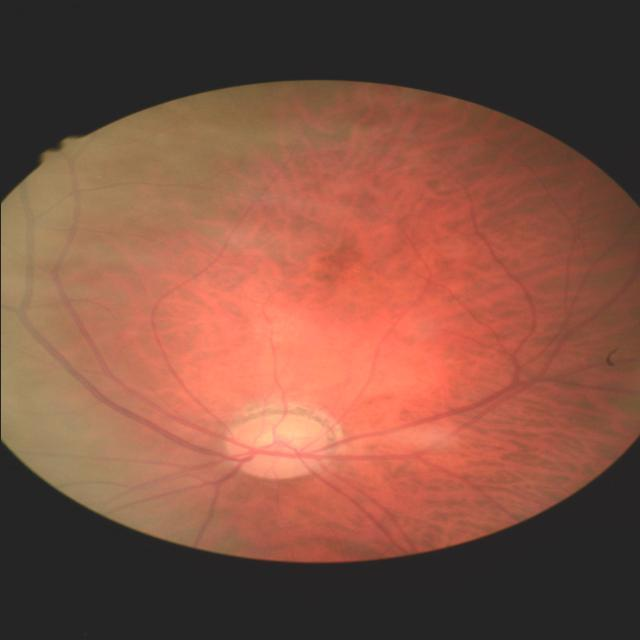cup: (254, 431, 316, 463)
disk: (223, 414, 333, 480)
